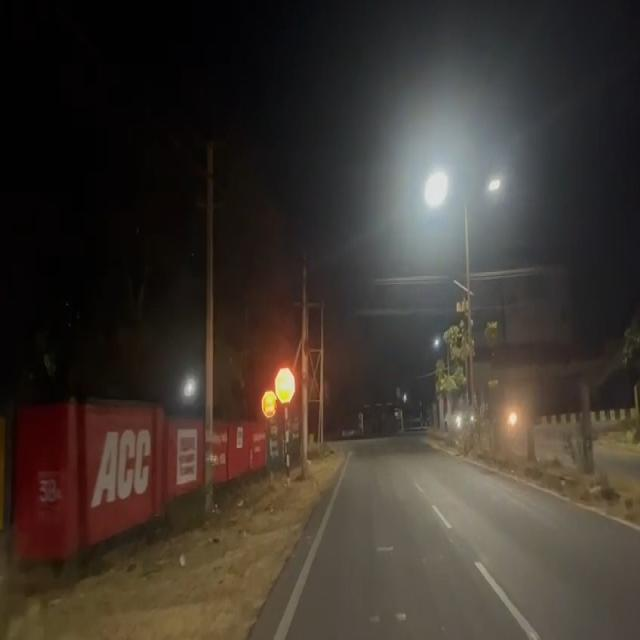bien_cam: (274, 367, 297, 404), (260, 387, 279, 421)
